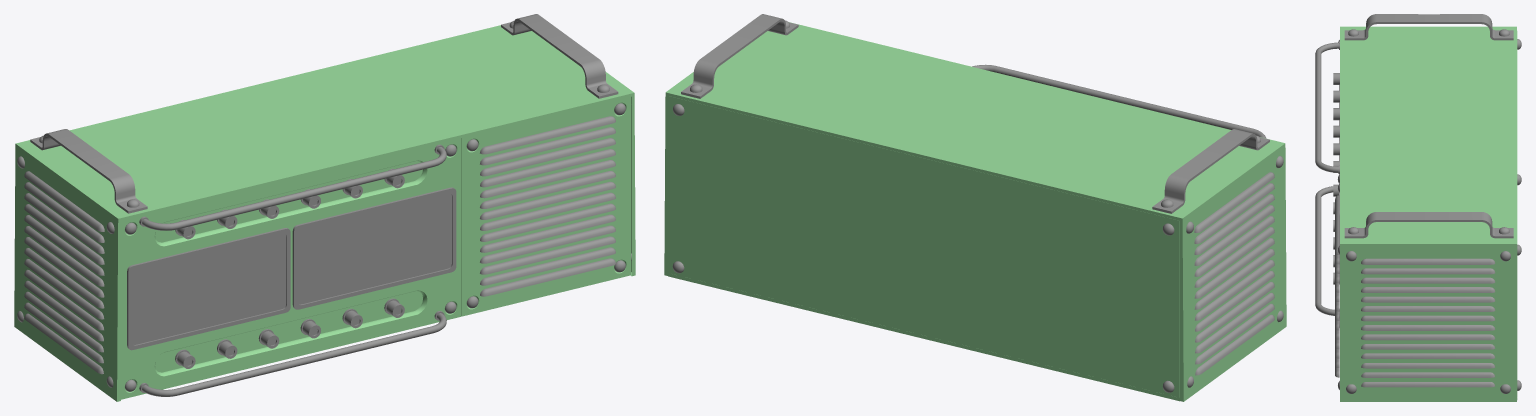
The model's file is jun.fbx.
3 renders of one model, left to right at view 1: azimuth 30°, elevation 25°; view 2: azimuth 150°, elevation 25°; view 3: azimuth 270°, elevation 25°, orthographic. The views are drawn at different scales.
Parts seen in each view (by area): view 1: Object003, Object145; view 2: Object003, Object145; view 3: Object003, Object145.
Part boxes in pixels (x1,y1,x2,y2): Object003: (14, 25, 635, 401); Object145: (17, 14, 631, 396); Object003: (664, 22, 1286, 401); Object145: (672, 14, 1283, 392); Object003: (1340, 26, 1517, 401); Object145: (1315, 14, 1521, 393).
Bounding box in the file's own units: 132 × 48.97 × 52.06.
